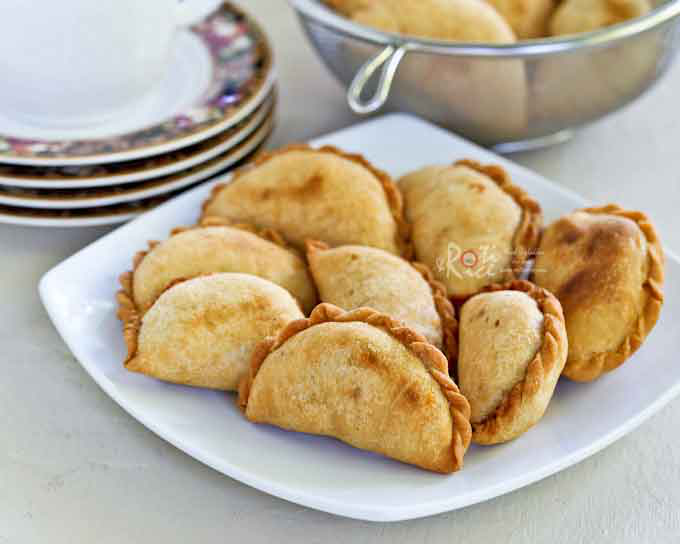Curry Puff: (239, 297, 473, 486), (530, 186, 662, 382), (204, 131, 405, 256), (131, 269, 319, 382), (397, 150, 549, 286), (447, 273, 564, 448), (305, 227, 453, 359), (98, 223, 309, 312)
